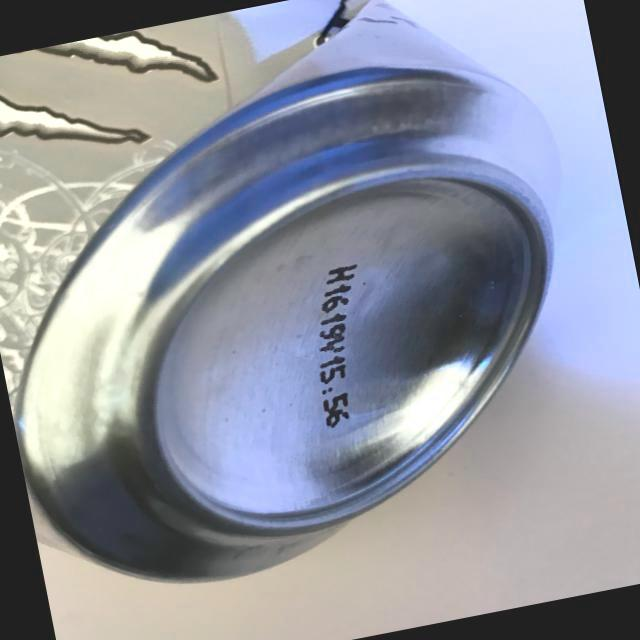metal: (0, 0, 628, 629)
